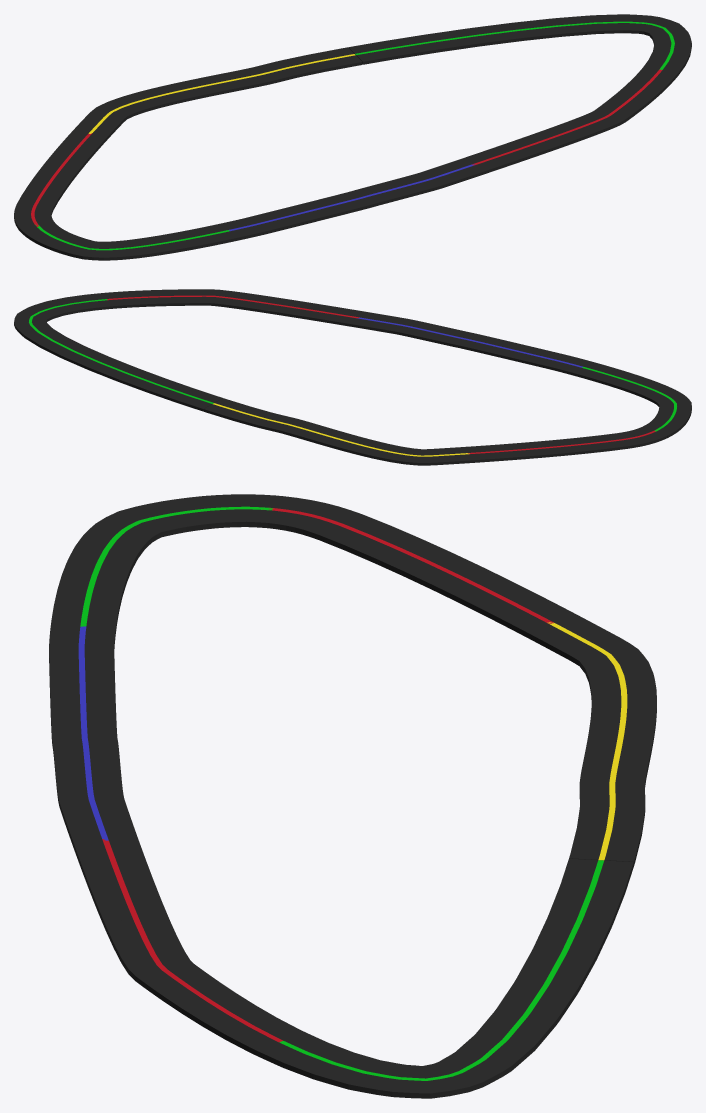
Rendered from Szines_palya_002.dae.
3 renders of one model, top to bottom at view 1: azimuth 30°, elevation 25°; view 2: azimuth 150°, elevation 25°; view 3: azimuth 270°, elevation 25°, orthographic. The views are drawn at different scales.
Visible parts, largest first — view 1: Cube.002, Cube.003, Cube, Cube.001, Cube.005, Cube.004; view 2: Cube.002, Cube.003, Cube.001, Cube, Cube.004, Cube.005; view 3: Cube.002, Cube.003, Cube.001, Cube, Cube.004, Cube.005.
Part boxes in pixels (<box>): Cube.002: <box>348,14,691,74</box>; Cube.003: <box>73,47,362,138</box>; Cube: <box>221,158,486,240</box>; Cube.001: <box>462,67,678,173</box>; Cube.005: <box>18,222,237,260</box>; Cube.004: <box>14,131,107,232</box>; Cube.002: <box>14,293,222,411</box>; Cube.003: <box>203,398,472,465</box>; Cube.001: <box>104,289,364,326</box>; Cube: <box>351,311,590,375</box>; Cube.004: <box>465,426,670,462</box>; Cube.005: <box>573,361,691,438</box>; Cube.002: <box>256,858,633,1098</box>; Cube.003: <box>524,615,656,866</box>; Cube.001: <box>73,837,305,1055</box>; Cube: <box>49,625,137,847</box>; Cube.004: <box>259,495,576,635</box>; Cube.005: <box>50,494,278,630</box>.
Bounding box in the file's own units: 234 × 101 × 0.9592.
